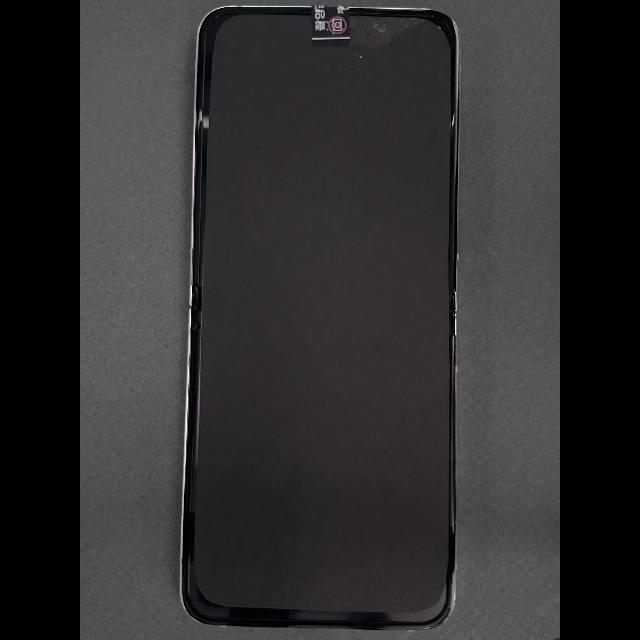phone: (178, 5, 461, 632)
sticker: (311, 5, 351, 46)
